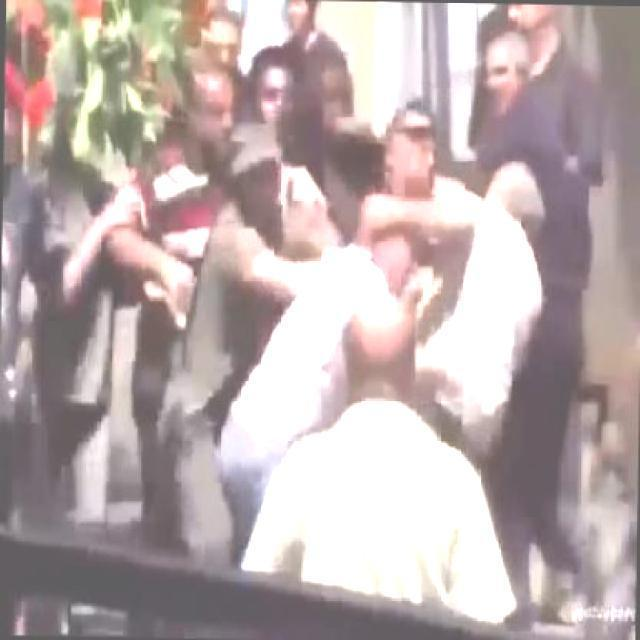fight: (294, 158, 542, 382)
